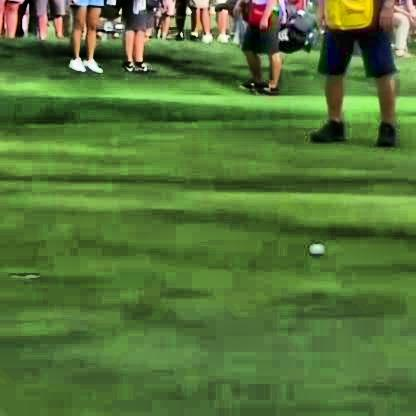golfball: (305, 244, 323, 255)
